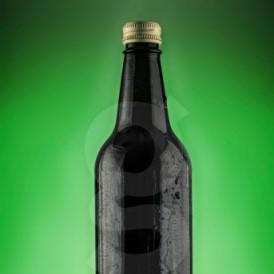beer: (94, 20, 193, 273)
